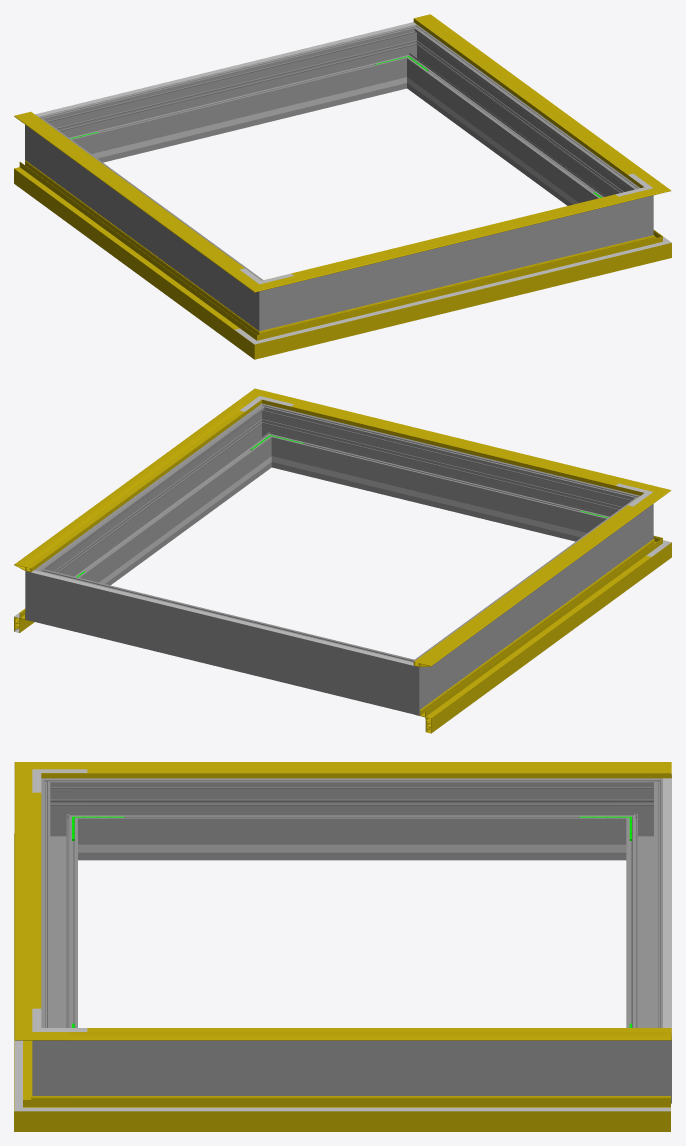
3 views of the same model, one above another, from view 1: azimuth 30°, elevation 25°; view 2: azimuth 150°, elevation 25°; view 3: azimuth 270°, elevation 25° (orthographic). The views are drawn at different scales.
Parts seen in each view (by area): view 1: 3DGeom-276, 3DGeom-298, 3DGeom-297, 3DGeom-90, 3DGeom-268, 3DGeom-85, 3DGeom-145, 3DGeom-147, 3DGeom-141, 3DGeom-270, 3DGeom-244, 3DGeom-284 (+11 smaller); view 2: 3DGeom-298, 3DGeom-276, 3DGeom-297, 3DGeom-268, 3DGeom-85, 3DGeom-141, 3DGeom-145, 3DGeom-147, 3DGeom-278, 3DGeom-284, 3DGeom-239, 3DGeom-290 (+9 smaller); view 3: 3DGeom-268, 3DGeom-297, 3DGeom-97, 3DGeom-147, 3DGeom-298, 3DGeom-276, 3DGeom-145, 3DGeom-141, 3DGeom-232, 3DGeom-290, 3DGeom-284, 3DGeom-98 (+11 smaller).
Boxes of the visible parts, x1,y1,x2,y2 form: 3DGeom-276: (63,31,401,162); 3DGeom-298: (294,204,618,322); 3DGeom-297: (410,37,627,205); 3DGeom-90: (283,241,637,350); 3DGeom-268: (45,128,250,316); 3DGeom-85: (14,160,245,344); 3DGeom-145: (413,14,650,183); 3DGeom-147: (14,113,245,277); 3DGeom-141: (283,194,636,283); 3DGeom-270: (239,271,294,331); 3DGeom-244: (104,85,373,156); 3DGeom-284: (388,24,433,90); 3DGeom-298: (277,410,615,541); 3DGeom-276: (60,575,390,707); 3DGeom-297: (51,415,268,585); 3DGeom-268: (428,507,633,694); 3DGeom-85: (416,548,651,733); 3DGeom-141: (279,397,635,492); 3DGeom-145: (14,403,251,572); 3DGeom-147: (413,502,650,667); 3DGeom-278: (384,650,439,715); 3DGeom-284: (25,558,66,627); 3DGeom-239: (305,464,574,535); 3DGeom-290: (245,403,290,469); 3DGeom-268: (87,778,617,860); 3DGeom-297: (87,1040,617,1095); 3DGeom-97: (69,1096,670,1131); 3DGeom-147: (69,762,671,778); 3DGeom-298: (41,797,77,1027); 3DGeom-276: (626,797,662,1027); 3DGeom-145: (69,1032,671,1040); 3DGeom-141: (14,785,32,1016); 3DGeom-232: (131,844,573,852); 3DGeom-290: (32,1014,86,1095); 3DGeom-284: (617,1014,671,1103); 3DGeom-98: (69,1107,670,1111).
Bounding box in the file's own units: 1.83 × 0.2829 × 1.83.
